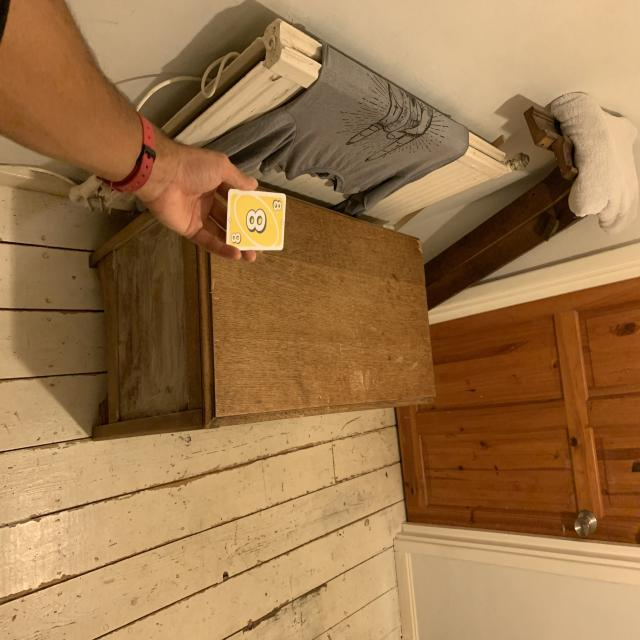lyellow-8: (270, 196, 283, 214)
